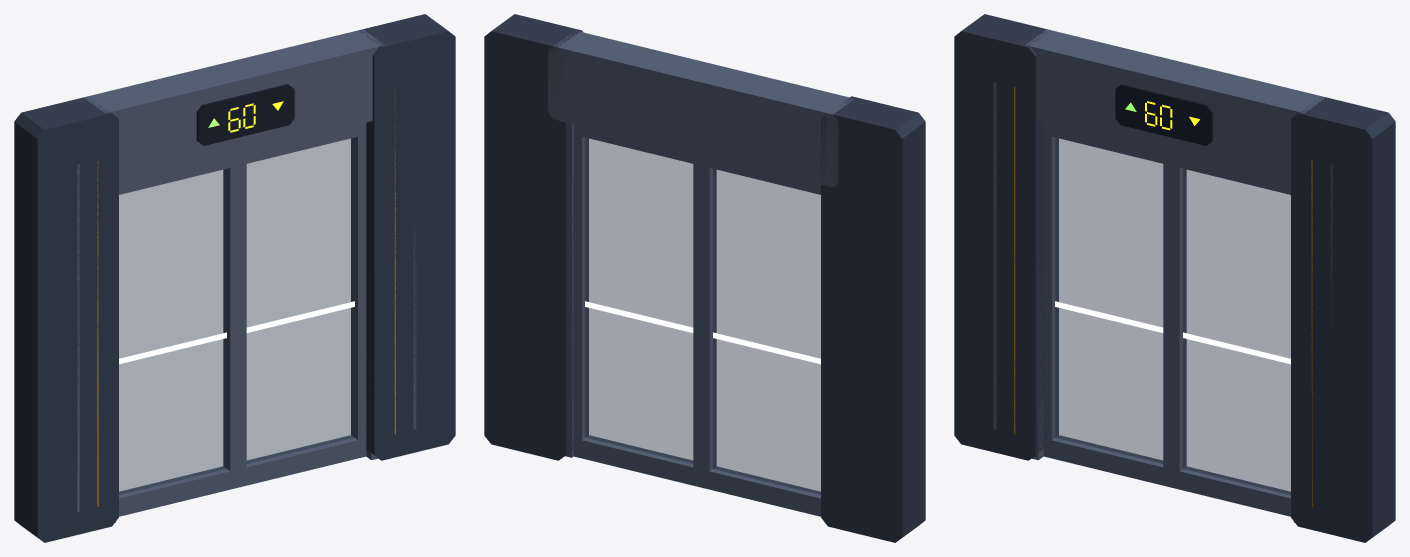
The model's file is off_elevator_shaft_door.glb.
The picture shows the model from 3 angles, left to right: view 1: azimuth 30°, elevation 25°; view 2: azimuth 150°, elevation 25°; view 3: azimuth 330°, elevation 25°; orthographic projection.
Visible parts, largest first — view 1: stone_jamb, laminated_glass.001, laminated_glass, header, rail.001, rail, floor_indicator, jamb_flute, jamb_inlay, frit.001, frit; view 2: stone_jamb, laminated_glass.001, laminated_glass, header, rail.001, rail, frit.001, frit; view 3: stone_jamb, laminated_glass, laminated_glass.001, header, rail, rail.001, floor_indicator, jamb_flute, jamb_inlay, frit, frit.001.
Boxes of the visible parts, box(x1,y1,x2,y2) form: stone_jamb: box(14, 14, 455, 542); laminated_glass.001: box(247, 138, 354, 463); laminated_glass: box(119, 169, 226, 494); header: box(83, 29, 384, 522); rail.001: box(238, 122, 366, 487); rail: box(119, 153, 238, 516); floor_indicator: box(196, 84, 294, 145); jamb_flute: box(77, 164, 416, 511); jamb_inlay: box(97, 87, 395, 506); frit.001: box(246, 301, 354, 332); frit: box(119, 332, 226, 364); stone_jamb: box(484, 14, 925, 542); laminated_glass.001: box(585, 138, 692, 463); laminated_glass: box(713, 169, 820, 494); header: box(548, 31, 853, 457); rail.001: box(573, 124, 701, 487); rail: box(701, 155, 820, 516); frit.001: box(585, 301, 693, 332); frit: box(713, 332, 820, 364); stone_jamb: box(954, 14, 1395, 542); laminated_glass: box(1055, 138, 1162, 463); laminated_glass.001: box(1183, 169, 1290, 494); header: box(1026, 29, 1325, 522); rail: box(1043, 122, 1171, 487); rail.001: box(1171, 153, 1290, 516); floor_indicator: box(1115, 84, 1213, 145); jamb_flute: box(993, 82, 1332, 429); jamb_inlay: box(1014, 86, 1312, 506); frit: box(1055, 301, 1163, 332); frit.001: box(1183, 332, 1290, 364).
Bounding box in the file's own units: 3.6 × 3.4 × 0.35.
